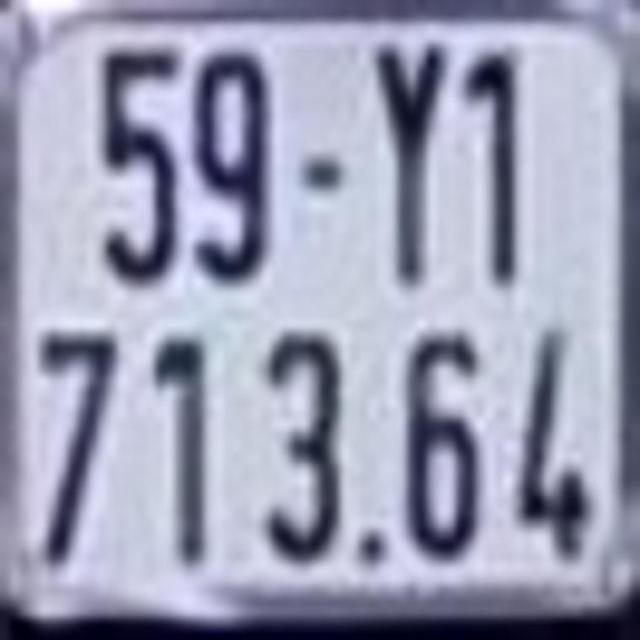1: (463, 47, 529, 286), (151, 331, 214, 567)
3: (259, 322, 345, 564)
4: (517, 326, 591, 561)
5: (98, 44, 181, 282)
6: (404, 326, 483, 560)
7: (33, 323, 121, 568)
9: (191, 45, 270, 285)
Y: (372, 40, 451, 285)
